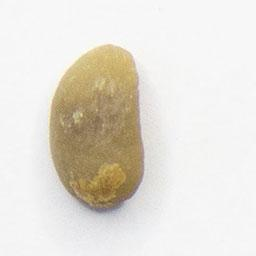longberry: (47, 39, 150, 211)
